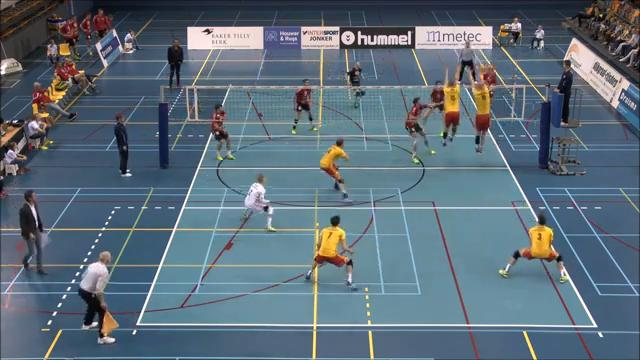attacco: (478, 62, 499, 99)
muro: (463, 61, 491, 154), (439, 62, 461, 147)
